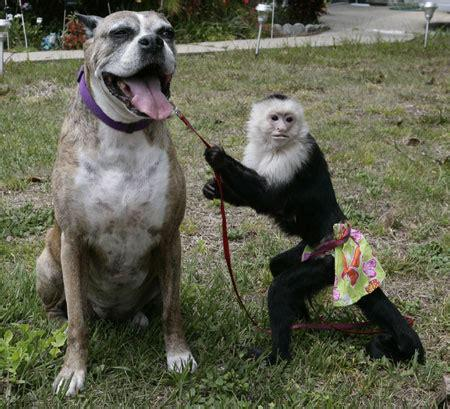dog: (36, 11, 195, 395)
monkey: (203, 95, 424, 364)
